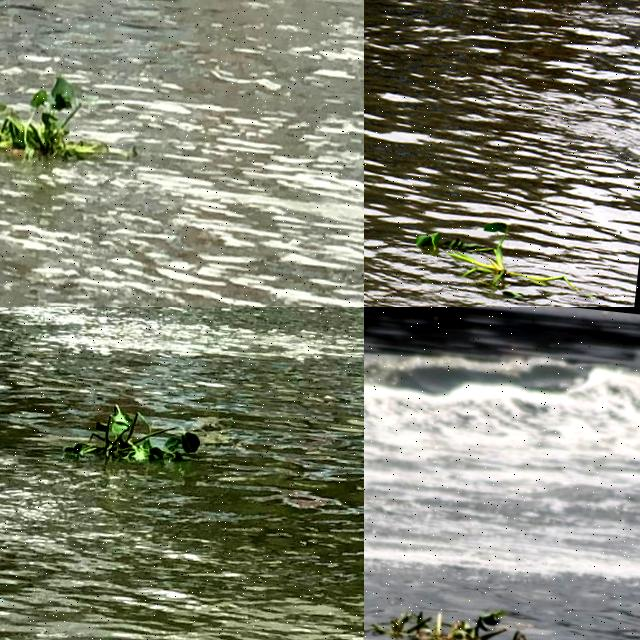water-hyacinth: (409, 206, 586, 304), (1, 66, 138, 175), (59, 394, 208, 483), (365, 591, 518, 640)
